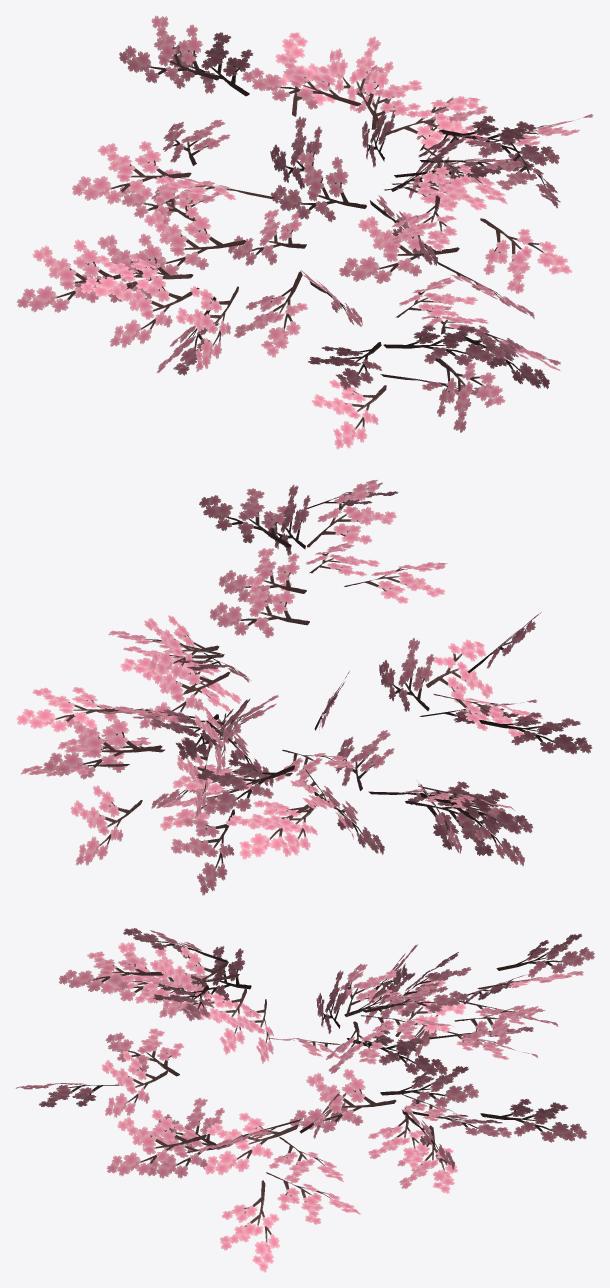
File: SM_SakuraBranch02_V2.FBX
3 views of the same model, one above another, from view 1: azimuth 30°, elevation 25°; view 2: azimuth 150°, elevation 25°; view 3: azimuth 270°, elevation 25° (orthographic). The views are drawn at different scales.
Parts seen in each view (by area): view 1: SM_SakuraBranch02; view 2: SM_SakuraBranch02; view 3: SM_SakuraBranch02.
Part boxes in pixels (x1,y1,x2,y2): SM_SakuraBranch02: (16,15,593,449); SM_SakuraBranch02: (16,479,592,895); SM_SakuraBranch02: (15,928,594,1272).
Bounding box in the file's own units: 382 × 233 × 438.
